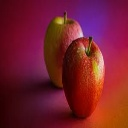apple: (43, 14, 85, 88)
